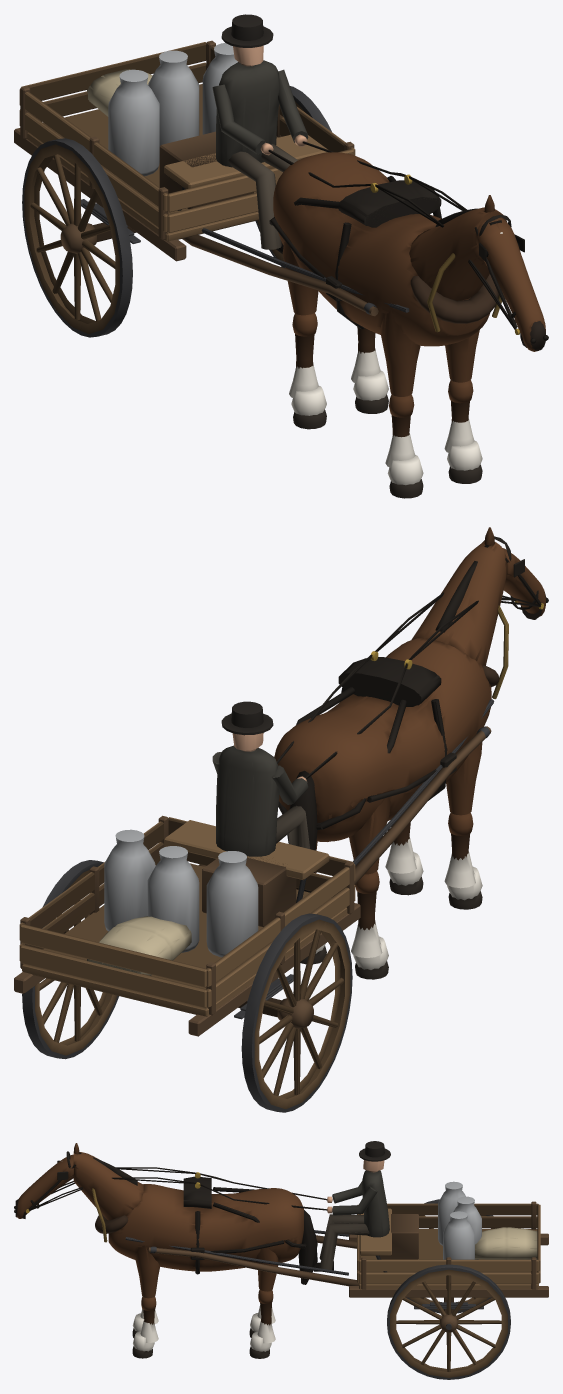
File: horse.glb
3 views of the same model, one above another, from view 1: azimuth 30°, elevation 25°; view 2: azimuth 150°, elevation 25°; view 3: azimuth 270°, elevation 25° (orthographic). The views are drawn at different scales.
Parts seen in each view (by area): view 1: cart_bed (×2), body (×2), wheel_r (×2), driver (×2), head (×2), neck (×2), fore_r_upper, hind_r_lower, fore_l_lower, fore_r_lower, fore_r_hoof, hind_r_hoof (+6 smaller); view 2: cart_bed (×2), body (×2), wheel_r (×2), driver (×2), neck (×2), wheel_l (×2), hind_r_lower, fore_r_lower, head, fore_r_upper, hind_r_upper, fore_l_lower (+4 smaller); view 3: cart_bed (×2), body (×2), wheel_l (×2), driver (×2), neck (×2), head (×2), fore_l_upper, tail, hind_l_lower, fore_l_lower, hind_l_upper, fore_l_hoof (+2 smaller).
Boxes of the visible parts, x1,y1,x2,y2 form: cart_bed (×2): (14,40,378,316); body (×2): (201,152,501,346); wheel_r (×2): (22,138,132,337); driver (×2): (212,14,516,329); head (×2): (474,214,548,351); neck (×2): (409,207,506,300); fore_r_upper: (380,310,420,396); hind_r_lower: (289,313,318,398); fore_l_lower: (444,380,474,453); fore_r_lower: (385,394,415,467); fore_r_hoof: (387,455,423,498); hind_r_hoof: (291,386,326,429); cart_bed (×2): (14,726,491,1036); body (×2): (274,605,508,865); wheel_r (×2): (241,913,352,1112); driver (×2): (212,592,540,856); neck (×2): (411,541,507,665); wheel_l (×2): (22,860,118,1059); hind_r_lower: (351,871,382,957); fore_r_lower: (444,812,475,888); head: (482,536,548,619); fore_r_upper: (446,720,483,815); hind_r_upper: (349,797,390,874); fore_l_lower: (385,822,416,873); cart_bed (×2): (148,1181,548,1312); body (×2): (92,1172,348,1275); wheel_l (×2): (387,1264,510,1379); driver (×2): (29,1141,390,1271); neck (×2): (73,1151,143,1220); head (×2): (14,1151,75,1218); fore_l_upper: (135,1245,159,1298); tail: (298,1210,317,1284); hind_l_lower: (257,1290,275,1343); fore_l_lower: (140,1296,158,1342); hind_l_upper: (255,1248,278,1291); fore_l_hoof: (132,1331,154,1358).
Size of the model in its own units: 1.76 by 2.23 by 5.35.
